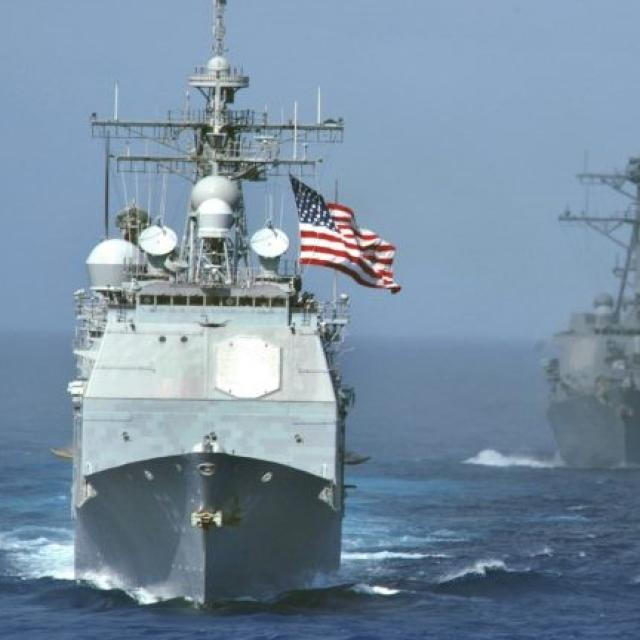navalvessels: (49, 0, 413, 590), (520, 148, 640, 470)
